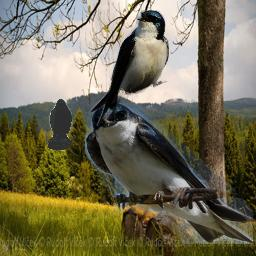Crow: (48, 99, 73, 151)
Swallow: (85, 103, 253, 244), (90, 10, 169, 127)
